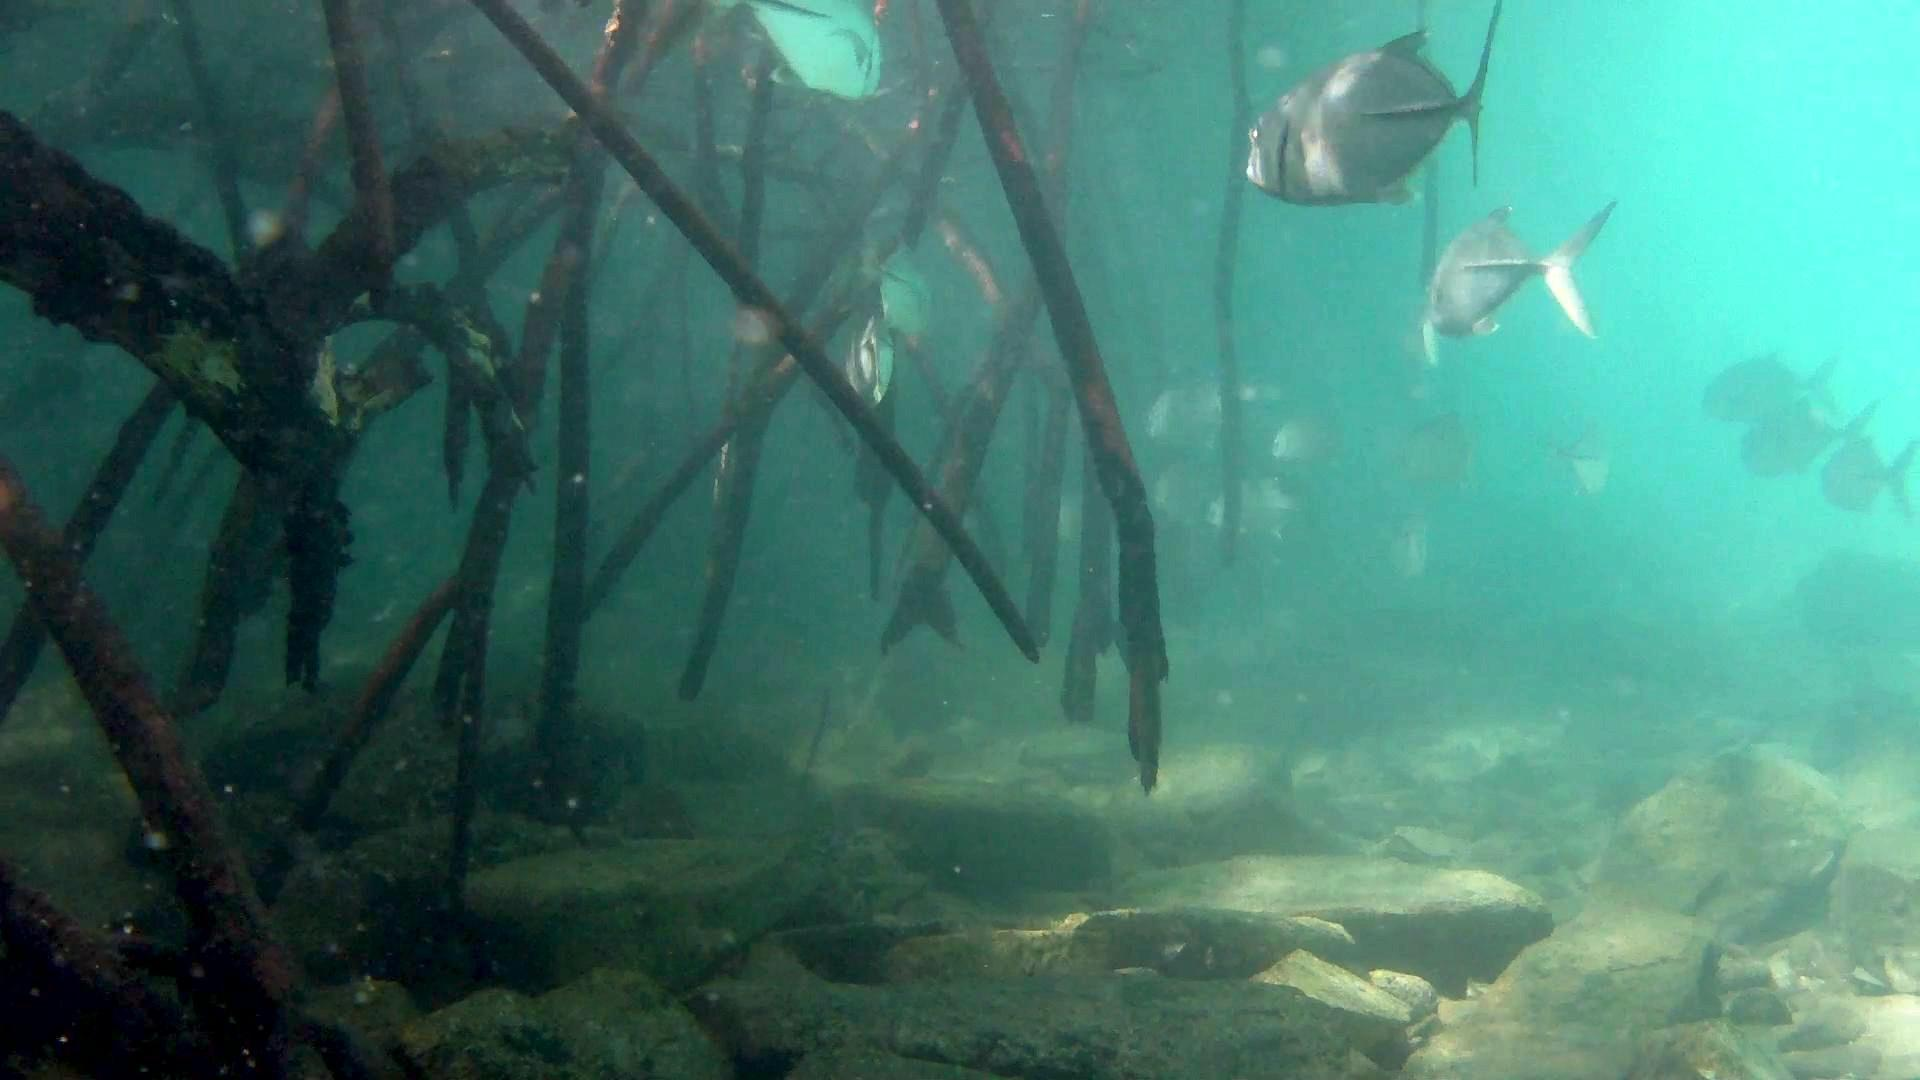caranx: (1241, 0, 1509, 214), (1419, 194, 1626, 349), (731, 0, 891, 105)
